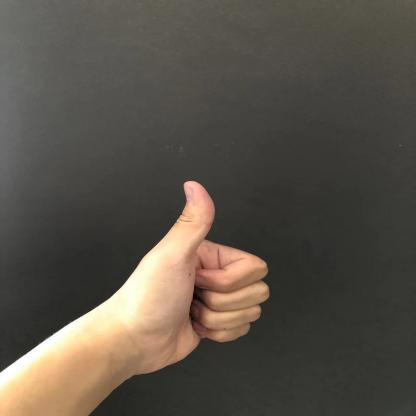Thumbs-Up: (110, 171, 292, 364)
